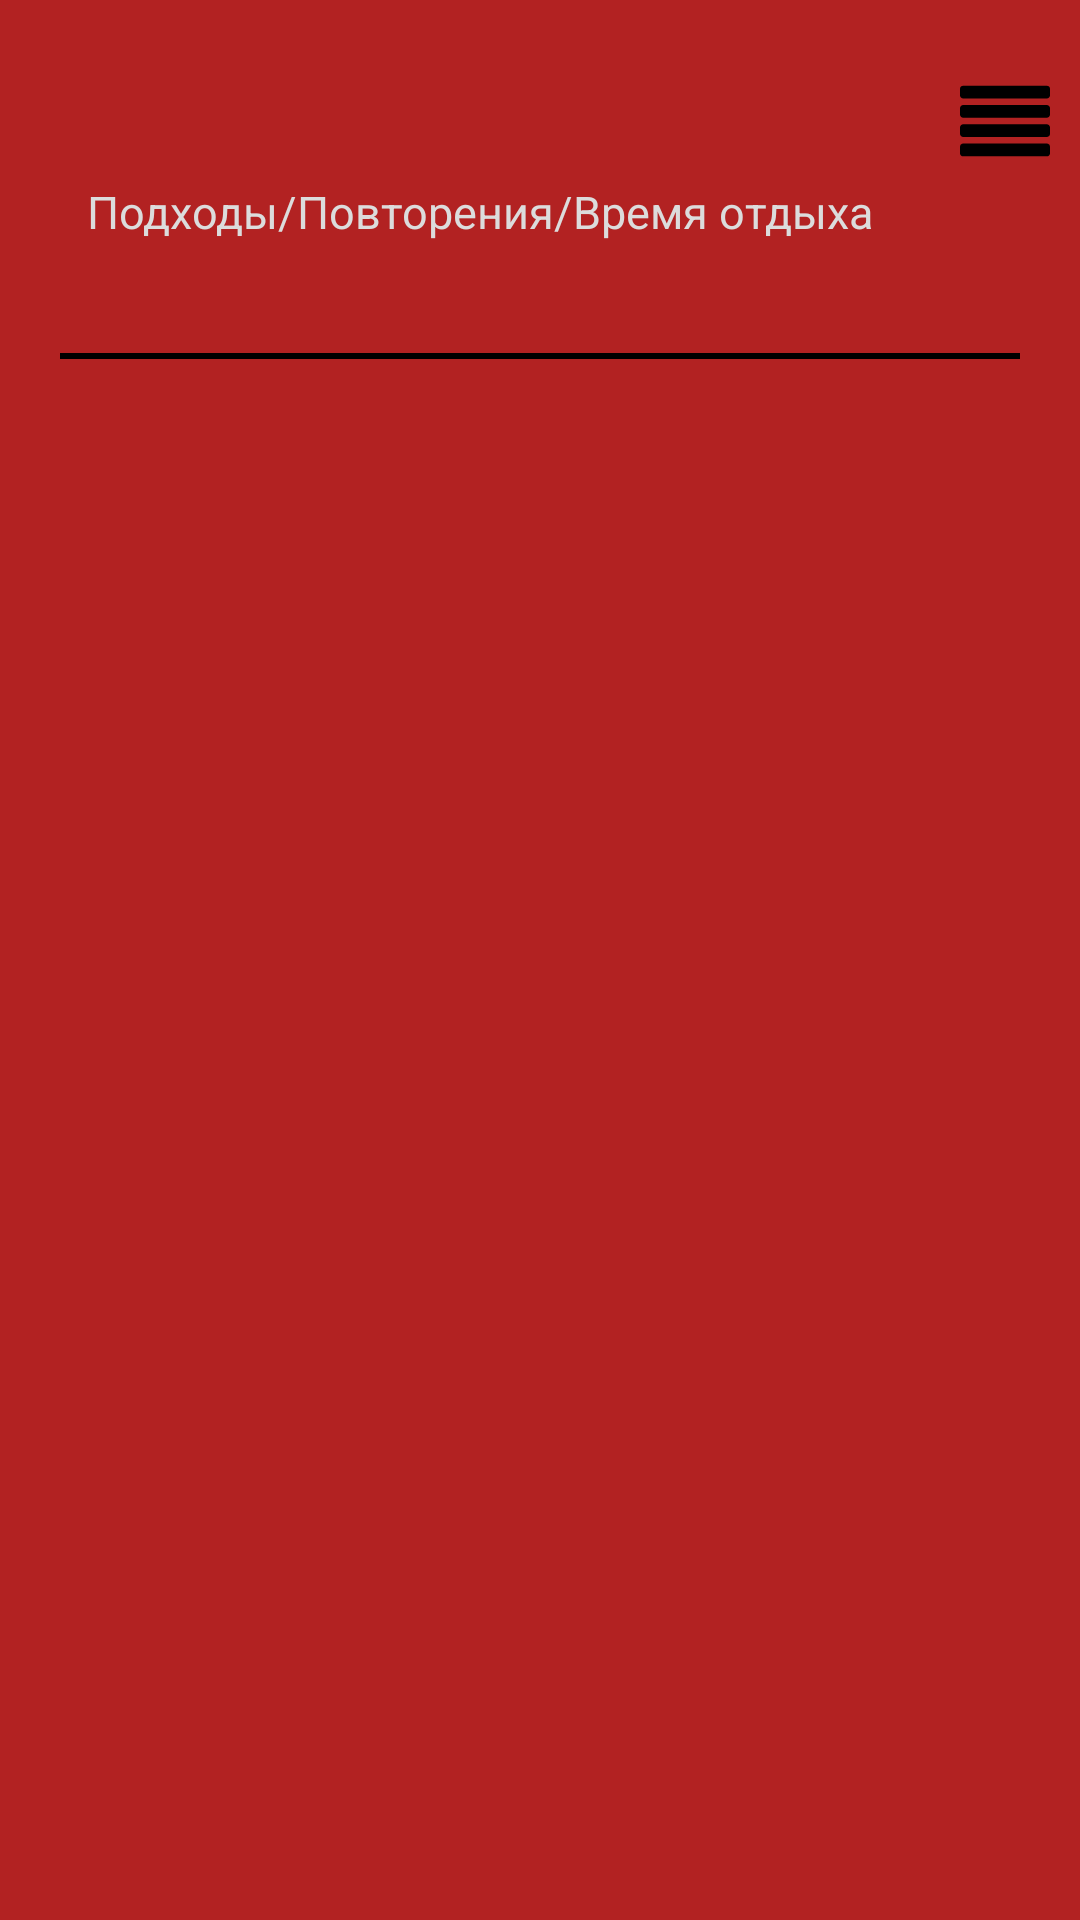

Screen size 1080×1920. Icon name, then its center in pixels as (x,y):
lines: (1005,121)
